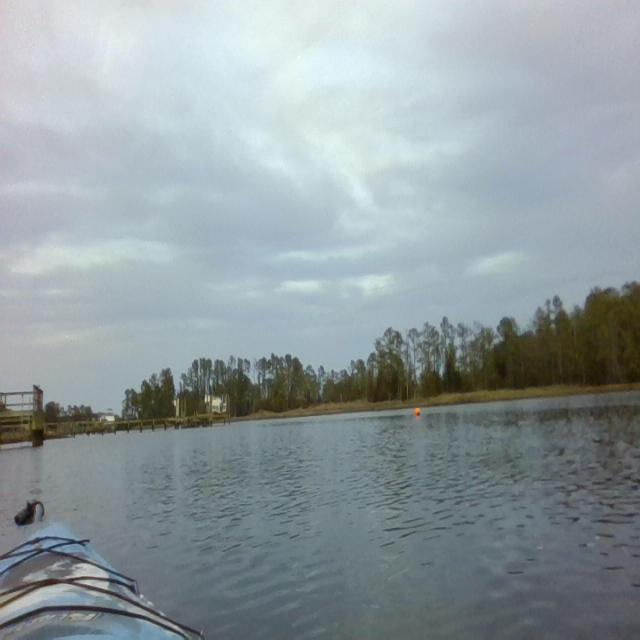Buoy: (414, 405, 422, 419)
